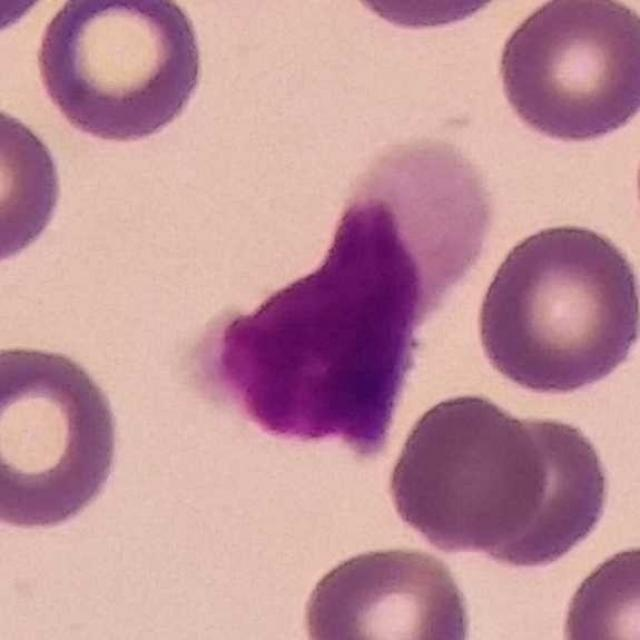Lymphocyte: (196, 133, 485, 465)
RBC: (471, 217, 640, 400), (381, 388, 552, 556), (29, 0, 209, 147), (0, 338, 128, 536), (465, 411, 617, 574), (491, 0, 640, 147), (297, 540, 478, 640), (0, 98, 69, 274), (554, 537, 639, 640), (336, 0, 525, 36), (0, 0, 72, 44)
